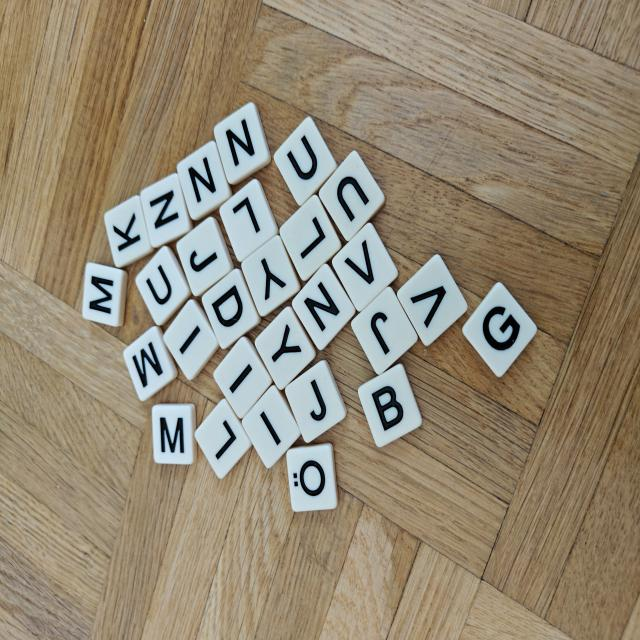b: (358, 364, 422, 447)
d: (202, 269, 261, 349)
g: (463, 282, 537, 377)
i: (242, 385, 300, 468), (213, 337, 272, 418), (163, 300, 219, 380)
j: (352, 287, 418, 375), (285, 360, 346, 442), (177, 217, 233, 296)
k: (104, 195, 153, 268)
l: (280, 195, 341, 280), (219, 179, 278, 262), (195, 399, 251, 478)
m: (123, 326, 177, 401), (82, 263, 128, 326), (152, 404, 197, 464)
n: (292, 264, 355, 350), (214, 102, 271, 184), (177, 141, 232, 220), (140, 173, 193, 247)
o_dot: (286, 443, 338, 511)
u: (319, 150, 385, 241), (275, 117, 337, 206), (135, 246, 191, 325)
v: (398, 254, 467, 346), (332, 223, 398, 311)
y: (255, 307, 316, 390), (242, 235, 300, 315)
